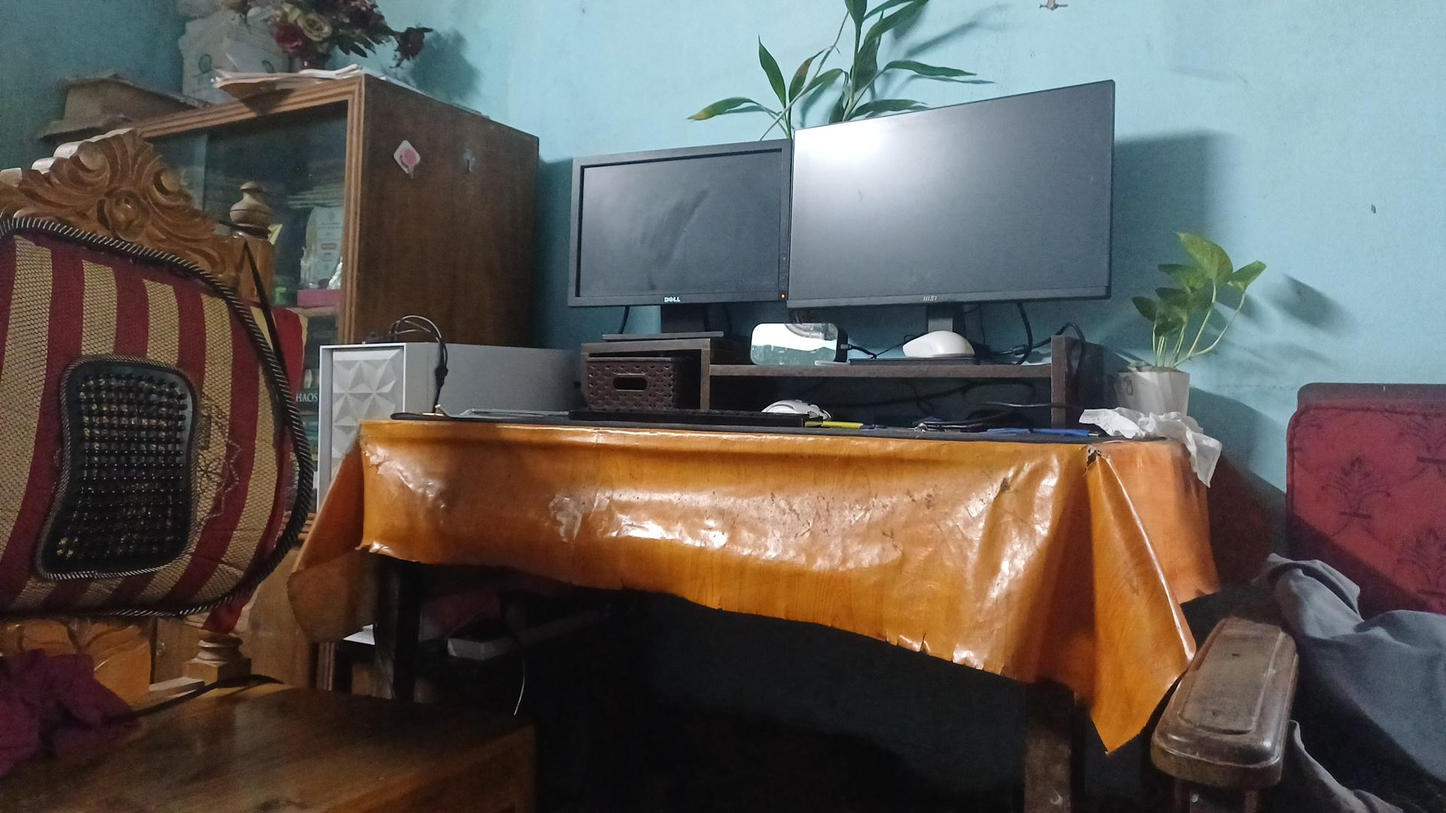Chair: (5, 95, 483, 797)
Clock: (726, 322, 872, 377)
Monitor: (783, 74, 1134, 305), (555, 128, 809, 310)
Mouse: (897, 320, 1009, 381)
Plant: (1132, 226, 1260, 443)
